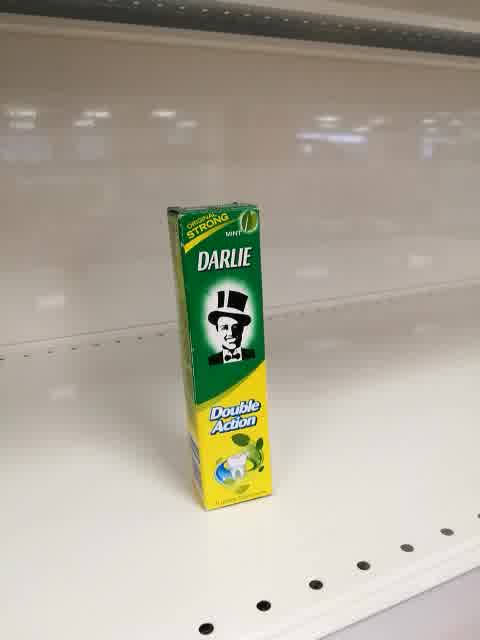toothpaste: (166, 201, 274, 513)
